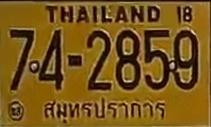2: (86, 30, 110, 90)
4: (38, 29, 62, 89)
5: (144, 29, 172, 89)
7: (9, 29, 34, 90)
8: (115, 30, 140, 90)
9: (171, 29, 198, 89)
SPK: (38, 95, 171, 125)
